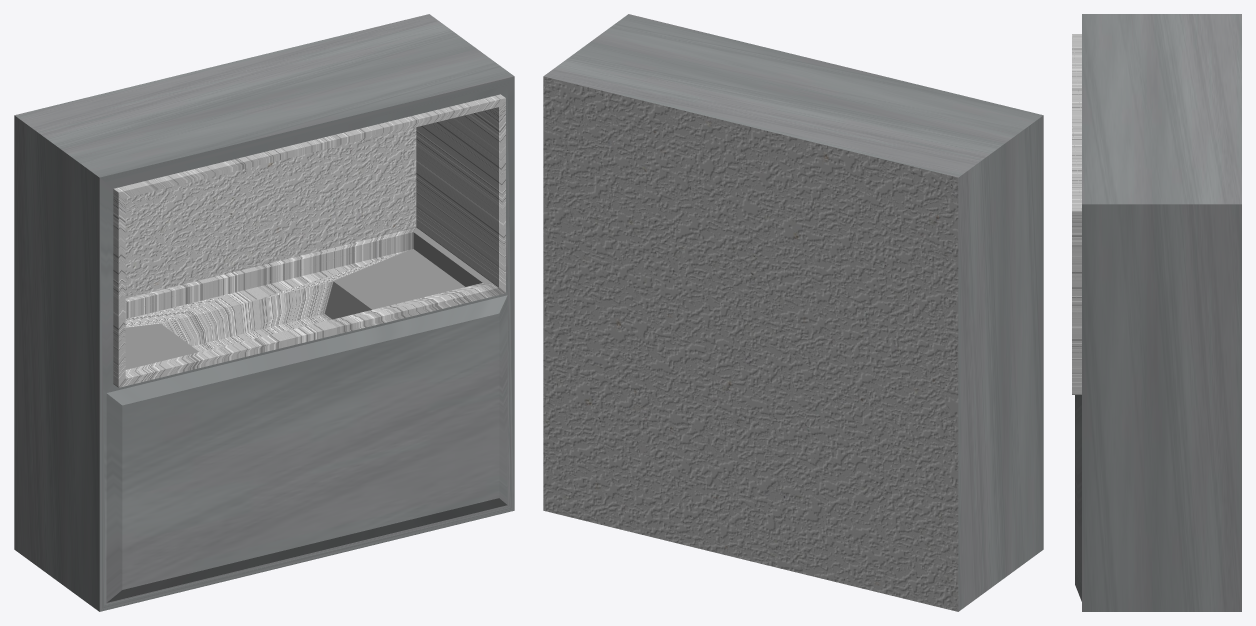
Rendered from WallAsset4.FBX.
3 views of the same model, side by side, from view 1: azimuth 30°, elevation 25°; view 2: azimuth 150°, elevation 25°; view 3: azimuth 270°, elevation 25° (orthographic). The views are drawn at different scales.
Visible parts, largest first — view 1: Box002; view 2: Box002; view 3: Box002.
Boxes of the visible parts, bbox=[...] form: Box002: bbox=[14, 14, 514, 611]; Box002: bbox=[543, 14, 1043, 611]; Box002: bbox=[1072, 14, 1241, 611].
Size of the model in its own units: 464 by 464 by 175.
Materials: 2 (2 with a texture image).
